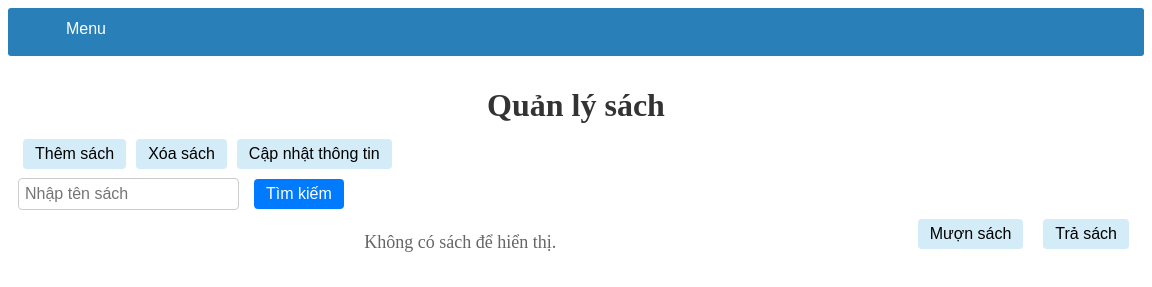
Test: Tìm kiếm sách › Tìm kiếm sách không thành công (Tên sách trống)
The image size is (1152, 287).
// Nhấn nút Tìm kiếm mà không nhập tên sách
Click the button "Tìm kiếm": point(299, 194) [254,179,344,209]
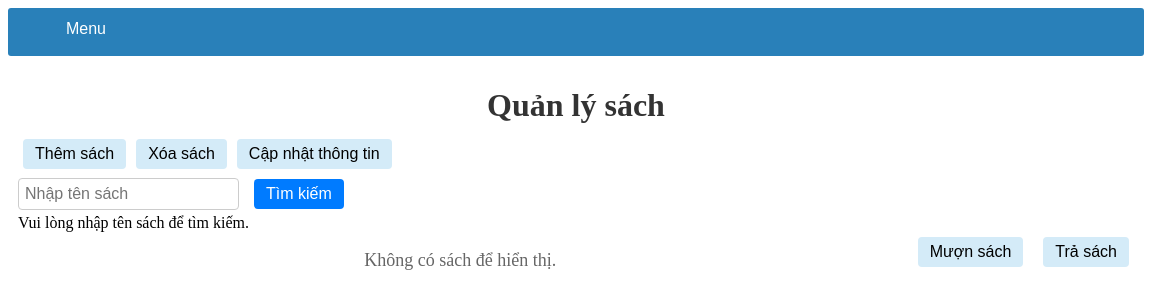
Expected: the text "Vui lòng nhập tên sách để tìm kiếm." is shown, [18,214,249,231]
